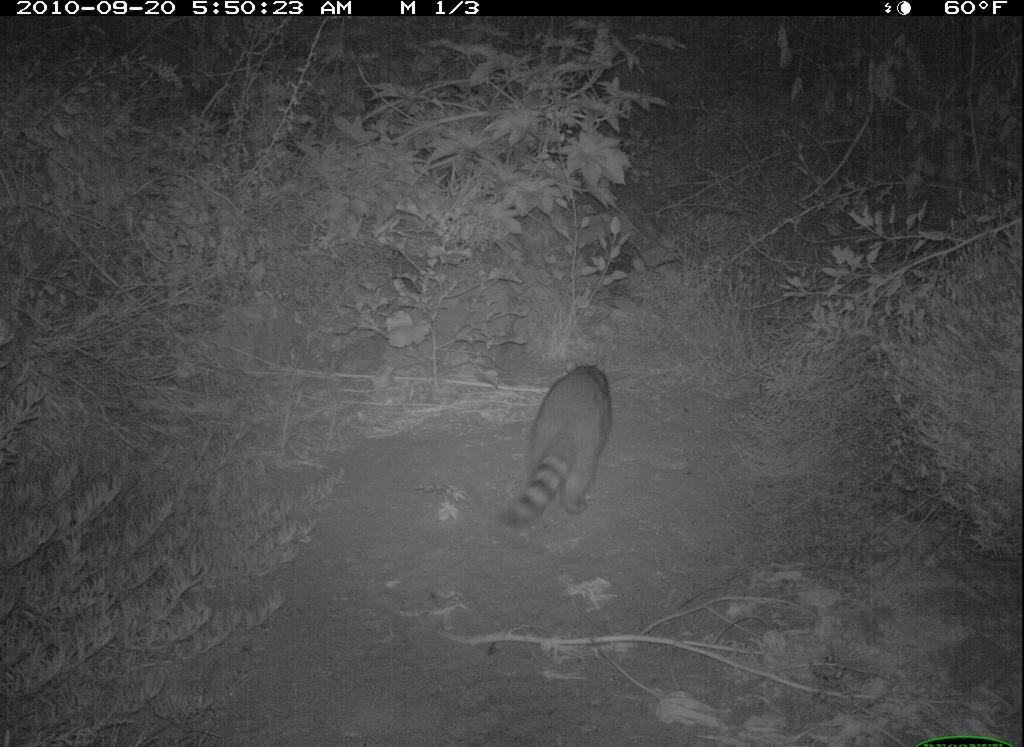raccoon: (507, 351, 624, 530)
